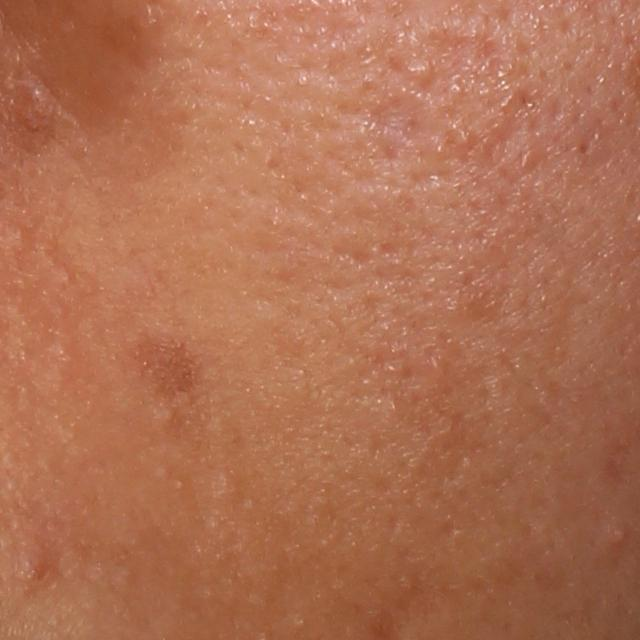comedo: (158, 405, 177, 427)
papule: (16, 549, 54, 584)
